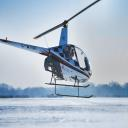helicopter: (1, 2, 101, 102)
